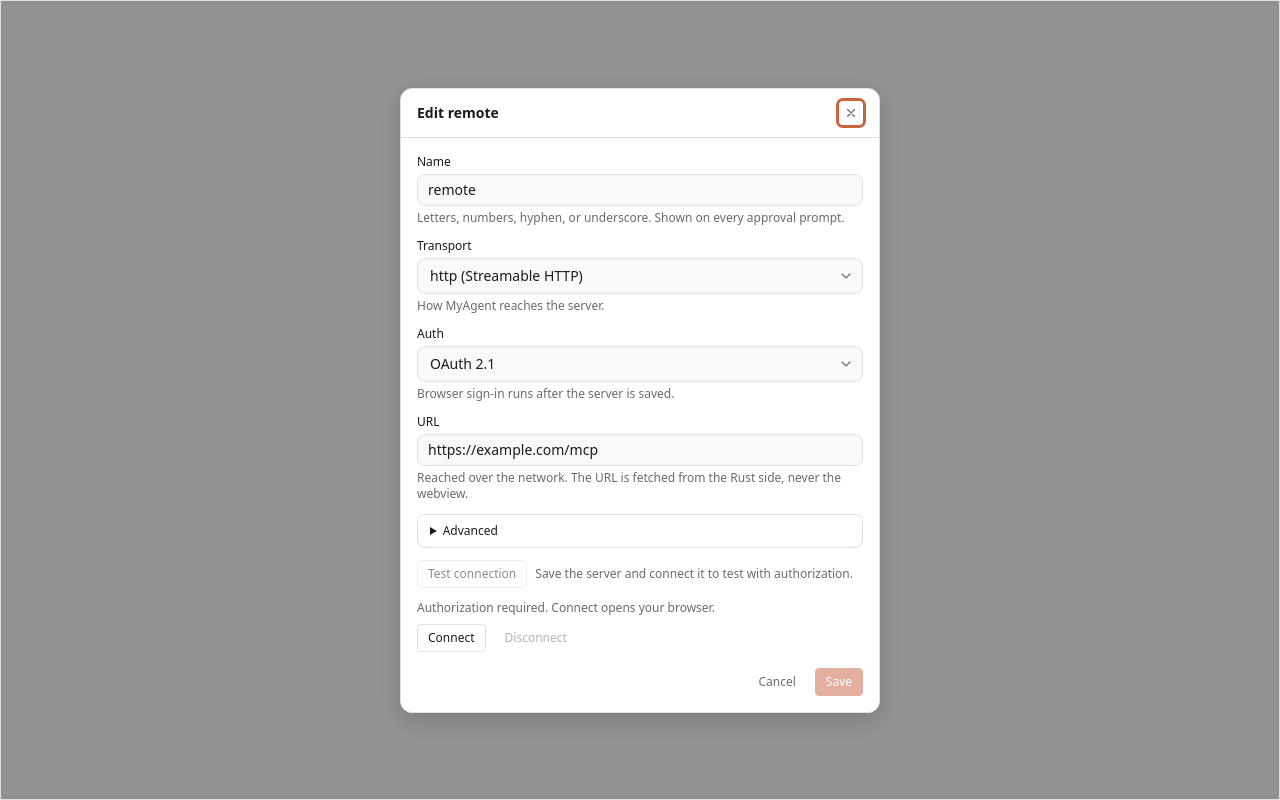
Test: McpServerDialog oauth › requires saving a changed target before connecting
Replace the text in the field showing "https://example.com/mcp" with "https://other.example/mcp" at (640, 450), box [417,434,863,466]
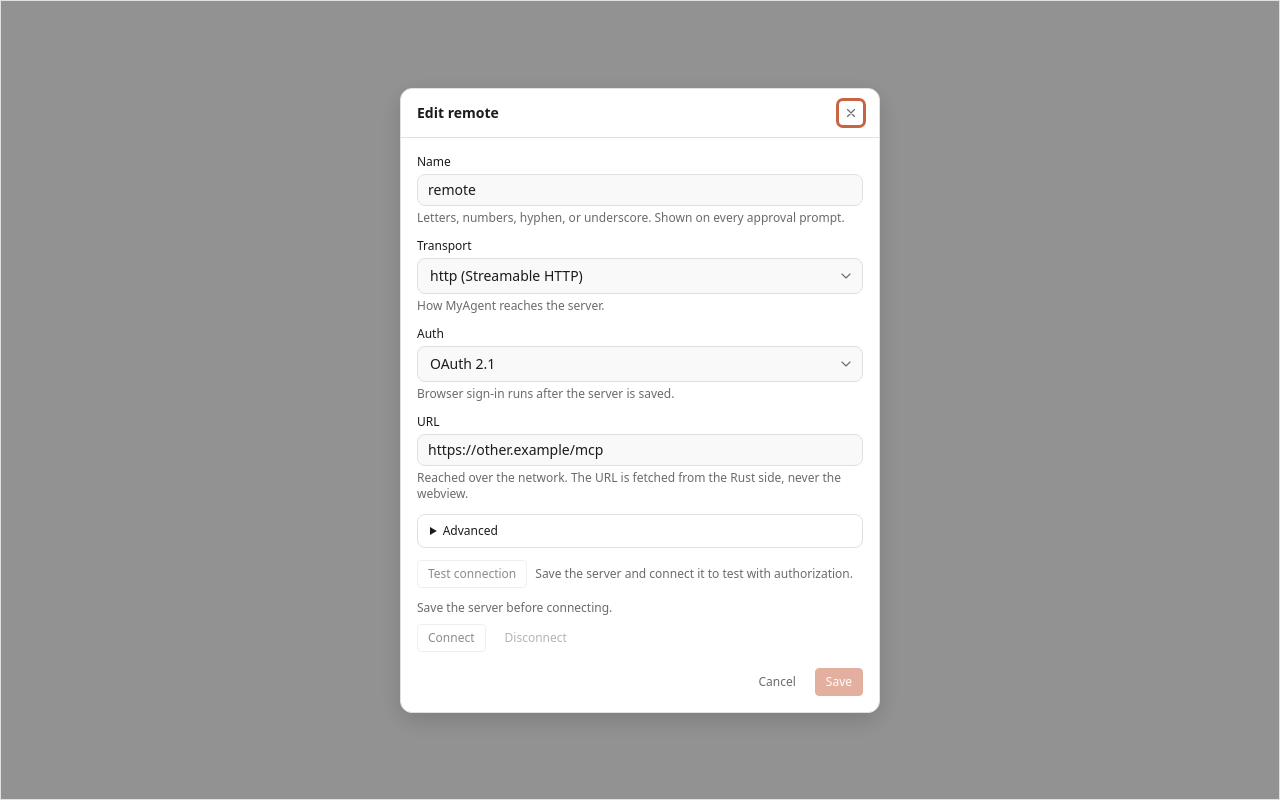
Now the text "Save the server before connecting." is shown, box [417,598,612,616]
Now the button "Connect" is disabled, box [417,624,486,652]
